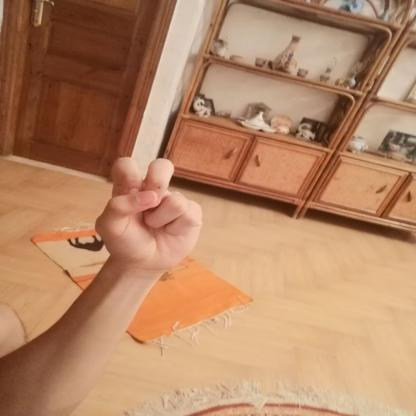QAAF: (81, 147, 212, 278)
